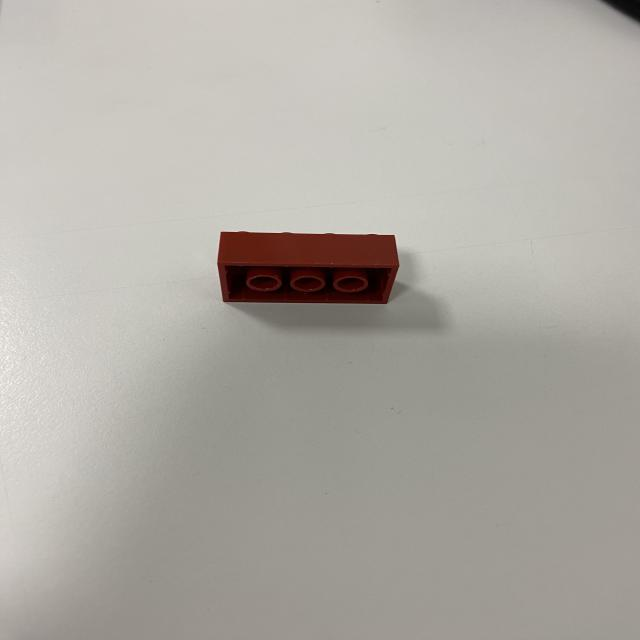C4x2x1: (222, 265, 411, 311), (207, 229, 404, 265)
